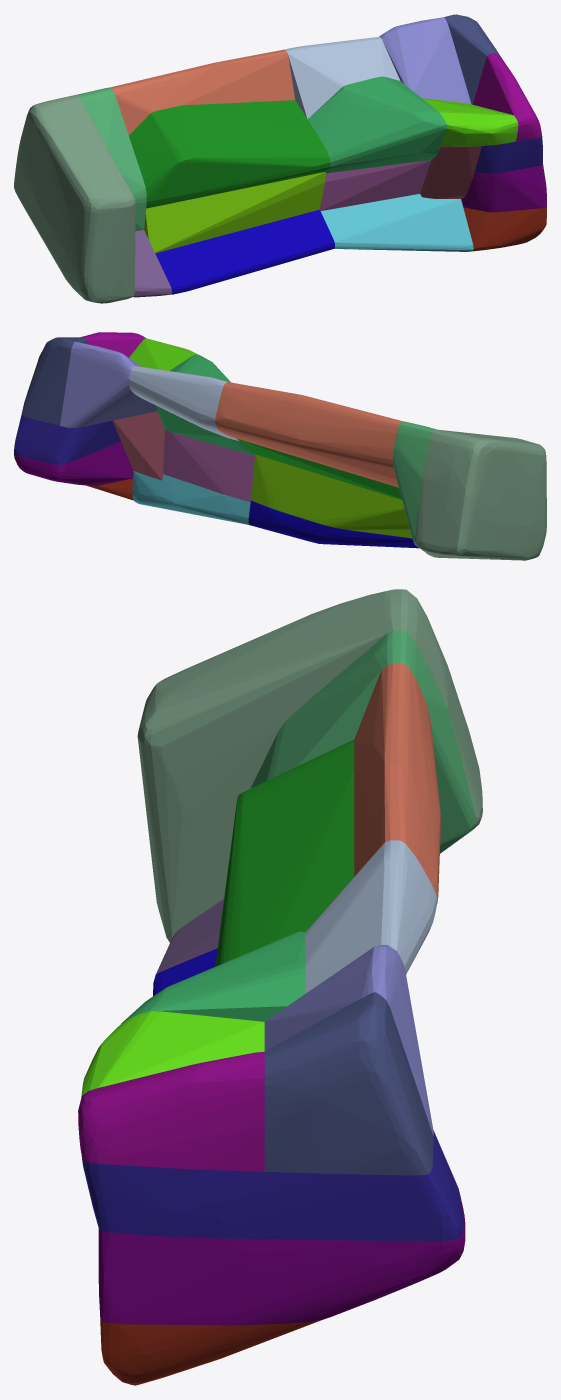
Rendered from 0_decomposed.obj.
3 renders of one model, top to bottom at view 1: azimuth 30°, elevation 25°; view 2: azimuth 150°, elevation 25°; view 3: azimuth 270°, elevation 25°, orthographic. The views are drawn at different scales.
Parts seen in each view (by area): view 1: geometry_0, geometry_8, geometry_10, geometry_5, geometry_4, geometry_9, geometry_2, geometry_6, geometry_12, geometry_7, geometry_3, geometry_11 (+7 smaller); view 2: geometry_0, geometry_9, geometry_4, geometry_12, geometry_7, geometry_6, geometry_18, geometry_2, geometry_16, geometry_5, geometry_11, geometry_3 (+6 smaller); view 3: geometry_0, geometry_11, geometry_18, geometry_16, geometry_8, geometry_14, geometry_9, geometry_3, geometry_6, geometry_17, geometry_10, geometry_15 (+3 smaller).
Boxes of the visible parts, bbox=[...] form: geometry_0: bbox=[14, 95, 135, 303]; geometry_8: bbox=[129, 100, 330, 208]; geometry_10: bbox=[307, 76, 446, 173]; geometry_5: bbox=[155, 209, 334, 294]; geometry_4: bbox=[144, 172, 325, 253]; geometry_9: bbox=[110, 49, 295, 135]; geometry_2: bbox=[320, 194, 473, 251]; geometry_6: bbox=[284, 36, 400, 118]; geometry_12: bbox=[379, 17, 471, 104]; geometry_7: bbox=[320, 160, 431, 210]; geometry_3: bbox=[76, 87, 146, 231]; geometry_11: bbox=[461, 164, 546, 212]; geometry_0: bbox=[415, 429, 546, 560]; geometry_9: bbox=[215, 382, 402, 487]; geometry_4: bbox=[251, 454, 411, 538]; geometry_12: bbox=[60, 341, 157, 427]; geometry_7: bbox=[163, 430, 254, 502]; geometry_6: bbox=[129, 366, 238, 440]; geometry_18: bbox=[14, 415, 120, 464]; geometry_2: bbox=[132, 471, 250, 524]; geometry_16: bbox=[21, 337, 88, 425]; geometry_5: bbox=[248, 500, 418, 548]; geometry_11: bbox=[14, 441, 133, 485]; geometry_3: bbox=[392, 421, 436, 545]; geometry_0: bbox=[137, 589, 482, 942]; geometry_11: bbox=[98, 1202, 465, 1325]; geometry_18: bbox=[82, 1130, 463, 1241]; geometry_16: bbox=[264, 992, 433, 1175]; geometry_8: bbox=[215, 739, 354, 966]; geometry_14: bbox=[78, 1051, 264, 1171]; geometry_9: bbox=[354, 663, 440, 903]; geometry_3: bbox=[251, 630, 475, 853]; geometry_6: bbox=[305, 840, 437, 993]; geometry_17: bbox=[81, 1011, 264, 1097]; geometry_10: bbox=[121, 931, 305, 1023]; geometry_15: bbox=[100, 1319, 322, 1385].
Size of the model in its own units: 0.245 by 0.0987 by 0.0943.
